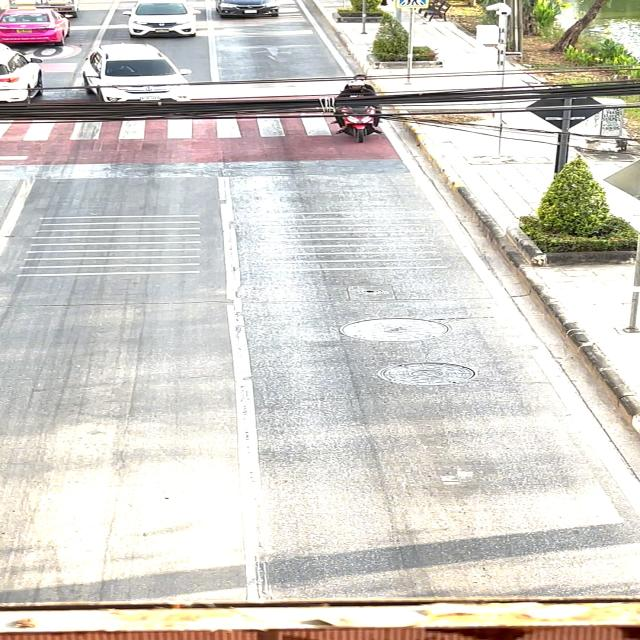car: (80, 46, 194, 108), (122, 0, 210, 42), (210, 0, 297, 27)
